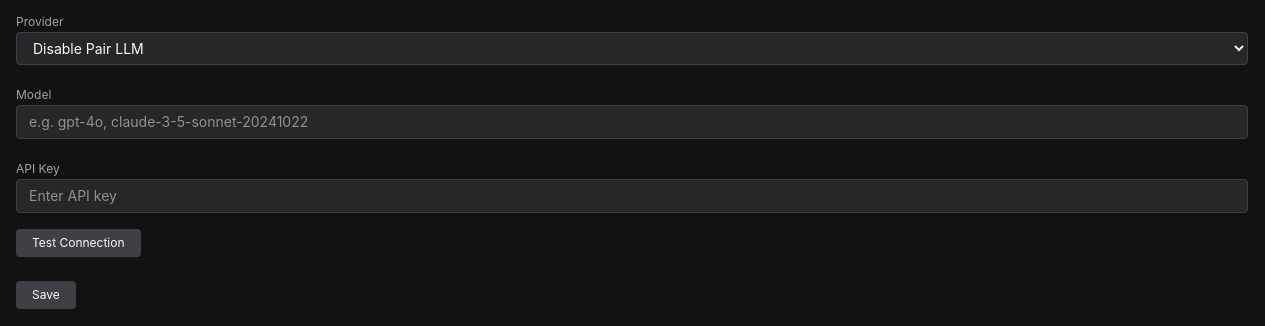
Test: LLMConfigTab — Disable Pair LLM › hides the Model, Server URL, API Key, and Test Connection fields when 'Disable Pair LLM' is selected
Select "Disable Pair LLM" in the dropdown at (632, 48), box x1=16 y1=32 x2=1248 y2=65
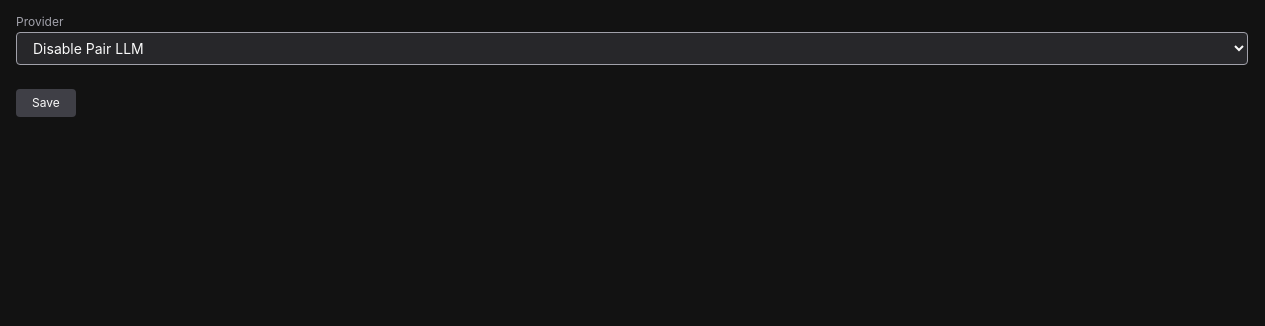
expect the text "Model" is gone: met
expect the text "API Key" is gone: met
expect the button "Test Connection" is gone: met
